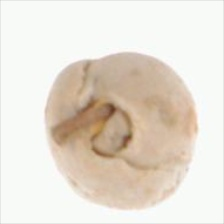L3: (81, 99, 131, 161)
L4: (44, 52, 197, 209)
